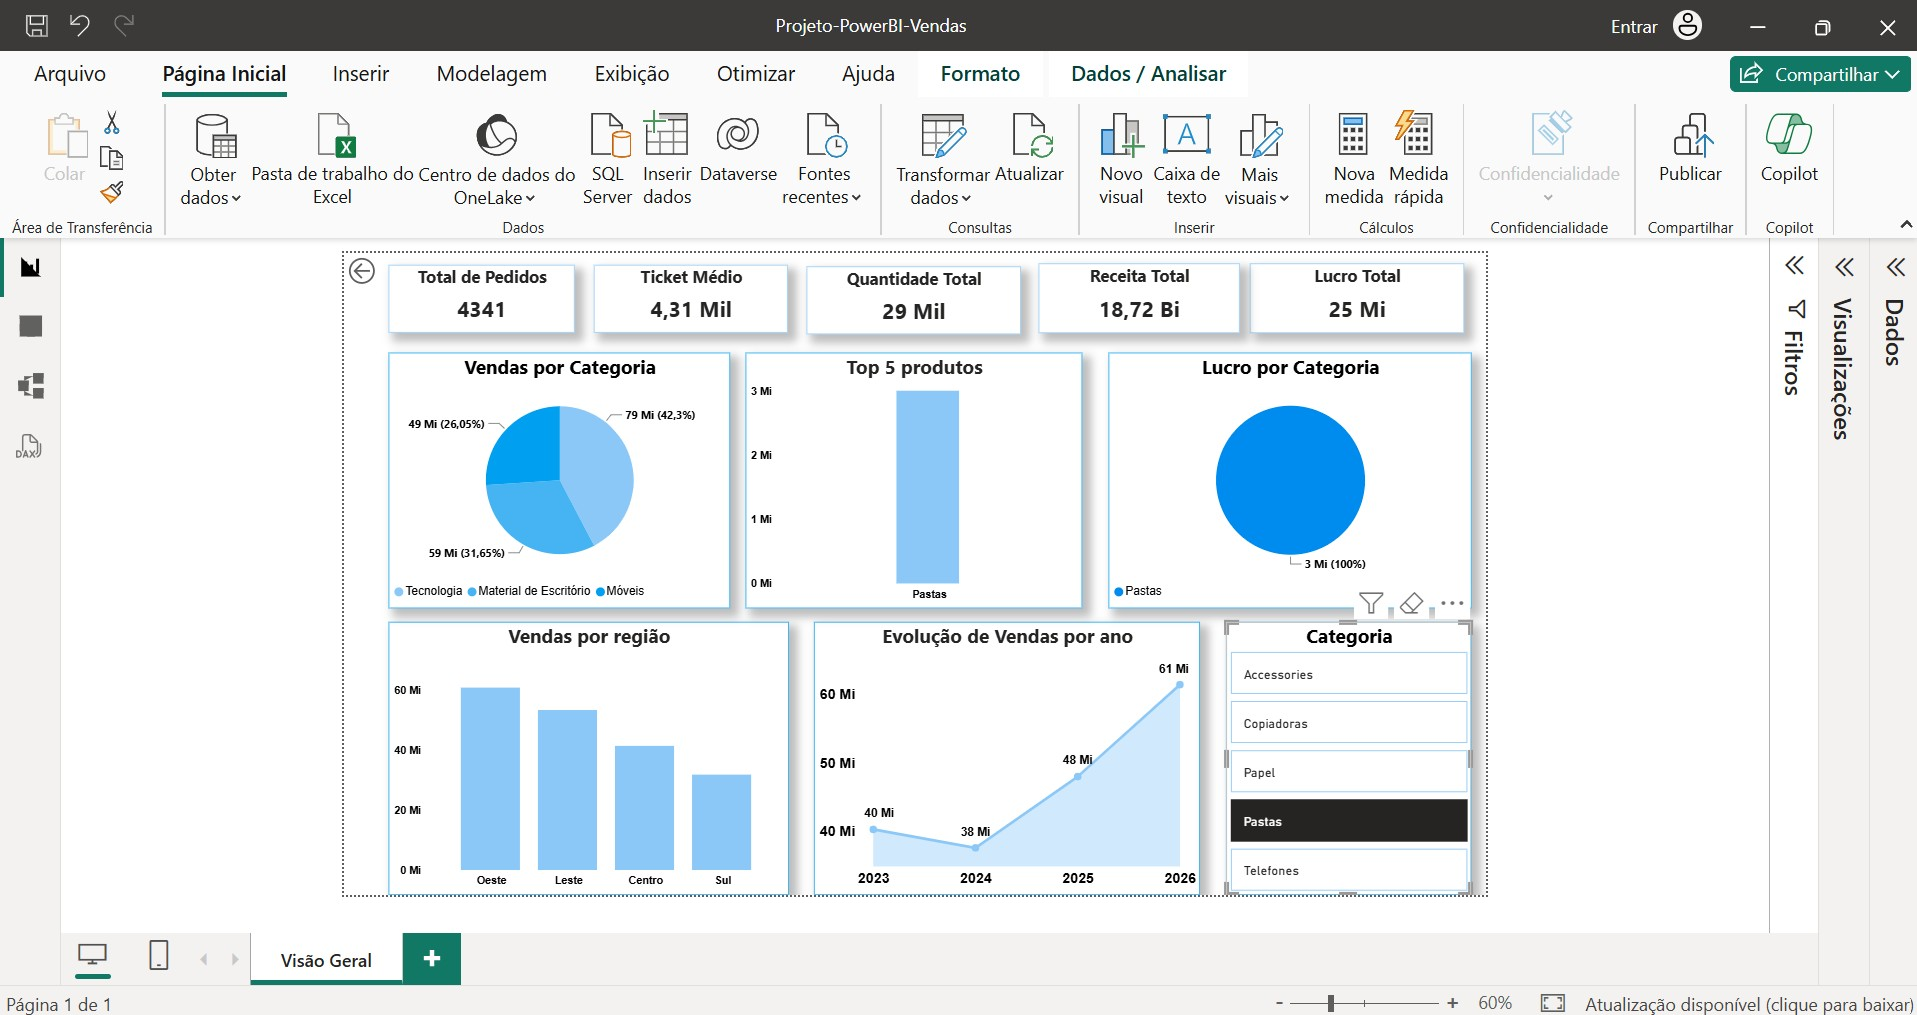

The dashboard page shown, as its layout file describes it:
{"tool":"powerbi","page":{"name":"Visão Geral","canvas":[1280,720],"ordinal":0},"visuals":[{"type":"card","title":"Lucro Total","fields":{"Values":["Sum(VISÃO GERAL.lucro_total)"]},"box":[1014.7,11.2,239.7,78.1],"z":0},{"type":"card","title":"Quantidade Total","fields":{"Values":["Sum(VISÃO GERAL.quantidade_total)"]},"box":[518.5,14.9,239.7,76.2],"z":1000},{"type":"card","title":"Ticket Médio","fields":{"Values":["Sum(SQLite 13.Ticket_Medio_Correto)"]},"box":[280.6,13,217.4,76.2],"z":2000},{"type":"card","title":"Receita Total","fields":{"Values":["Sum(SQLite 13.Receita_Total)"]},"box":[778.7,11.2,224.9,78.1],"z":3000},{"type":"card","title":"Total de Pedidos","fields":{"Values":["Sum(SQLite 13.Total_Pedidos)"]},"box":[50.2,13,208.1,76.2],"z":4000},{"type":"clusteredColumnChart","title":"Vendas por região","fields":{"Category":["VENDAS POR REGIÃO.region"],"Y":["Sum(VENDAS POR REGIÃO.receita)"]},"box":[50.2,413.8,448.2,305.6],"z":5000},{"type":"lineChart","title":"Evolução de Vendas por ano","fields":{"Category":["EVOLUÇÃO ANOS.ano"],"Y":["Sum(EVOLUÇÃO ANOS.receita)"]},"box":[526.6,413.8,432.6,305.6],"z":6000},{"type":"pieChart","title":"Vendas por Categoria","fields":{"Category":["VENDAS POR CATEGORIA.category"],"Y":["Sum(VENDAS POR CATEGORIA.receita)"]},"box":[50.2,111.5,382.8,286.2],"z":7000},{"type":"pieChart","title":"Lucro por Categoria","fields":{"Category":["SUBCATEGORIAS TOP 5 LUCRATIVAS.sub_category"],"Y":["Sum(SUBCATEGORIAS TOP 5 LUCRATIVAS.lucro)"]},"box":[856.8,111.5,407,286.2],"z":8000},{"type":"actionButton","box":[0,0,100,40],"z":9000},{"type":"columnChart","title":"Top 5 produtos","fields":{"Category":["SUBCATEGORIAS TOP 5 LUCRATIVAS.sub_category"],"Y":["Sum(SUBCATEGORIAS TOP 5 LUCRATIVAS.lucro)"]},"box":[449.8,111.5,377.3,286.2],"z":10000},{"type":"advancedSlicerVisual","title":"Categoria","fields":{"Values":["VENDAS POR CATEGORIA.category"]},"box":[989,414,275,306],"z":10001}]}

Visuals, with their boxes on the page's 1280x720 design canvas (x1, y1, x2, y2). These are canvas units, not pixel positions in the 1917x1015 screenshot, which may show the page scaled, cropped or inside an application window:
"Lucro Total" card: <region>1015, 11, 1254, 89</region>
"Quantidade Total" card: <region>518, 15, 758, 91</region>
"Ticket Médio" card: <region>281, 13, 498, 89</region>
"Receita Total" card: <region>779, 11, 1004, 89</region>
"Total de Pedidos" card: <region>50, 13, 258, 89</region>
"Vendas por região" clusteredColumnChart: <region>50, 414, 498, 719</region>
"Evolução de Vendas por ano" lineChart: <region>527, 414, 959, 719</region>
"Vendas por Categoria" pieChart: <region>50, 112, 433, 398</region>
"Lucro por Categoria" pieChart: <region>857, 112, 1264, 398</region>
actionButton: <region>0, 0, 100, 40</region>
"Top 5 produtos" columnChart: <region>450, 112, 827, 398</region>
"Categoria" advancedSlicerVisual: <region>989, 414, 1264, 720</region>
